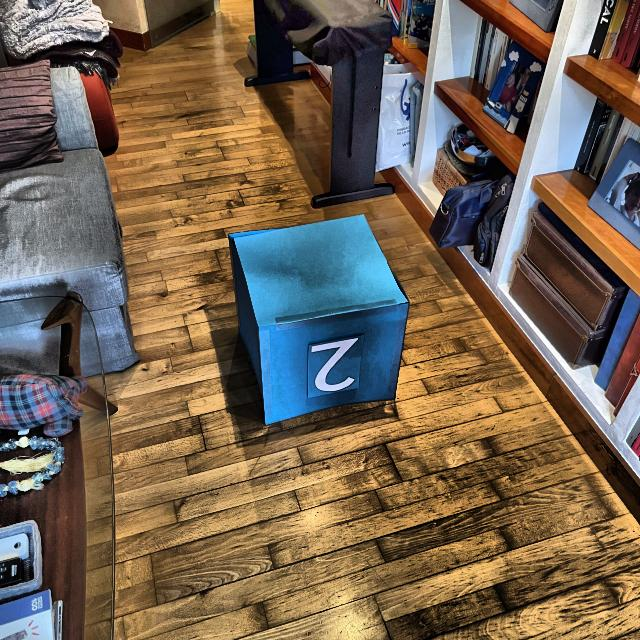blue box: (218, 210, 414, 434)
two: (306, 334, 361, 394)
